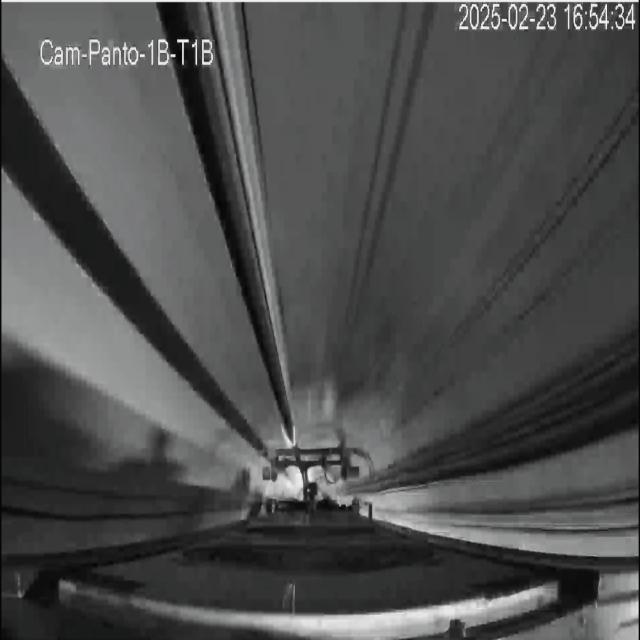Camera Stamp: (41, 34, 218, 69)
Date Stamp: (457, 3, 637, 33)
Sparks: (280, 424, 293, 446), (294, 426, 295, 447)
